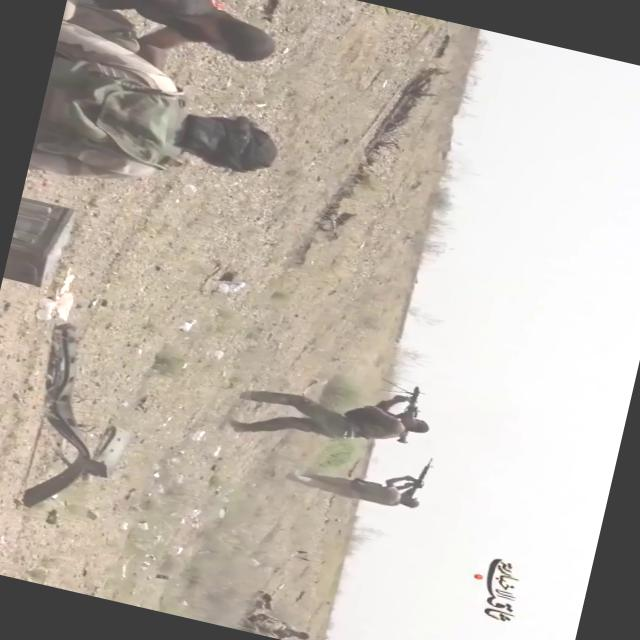long weapon: (391, 450, 439, 507)
